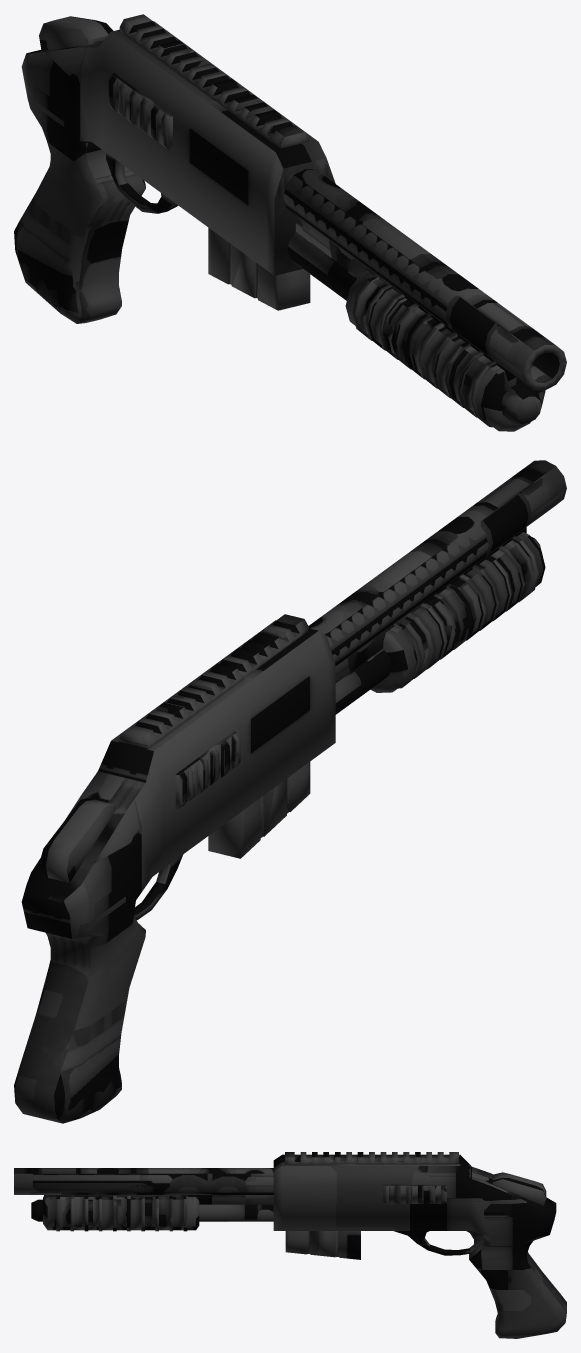
The model's file is easy-weapons-shotgun.glb.
The picture shows the model from 3 angles, top to bottom: view 1: azimuth 30°, elevation 25°; view 2: azimuth 150°, elevation 25°; view 3: azimuth 270°, elevation 25°; orthographic projection. The views are drawn at different scales.
Visible parts, largest first — view 1: shotgun, shotgun_magazine; view 2: shotgun, shotgun_magazine; view 3: shotgun, shotgun_magazine.
Boxes of the visible parts, x1,y1,x2,y2 form: shotgun: (14,14,566,431); shotgun_magazine: (208,228,310,310); shotgun: (14,460,566,1123); shotgun_magazine: (208,762,310,858); shotgun: (14,1152,566,1338); shotgun_magazine: (285,1231,360,1259).
Size of the model in its own units: 0.0484 by 0.2097 by 0.58.
Materials: 1 (1 with a texture image).
